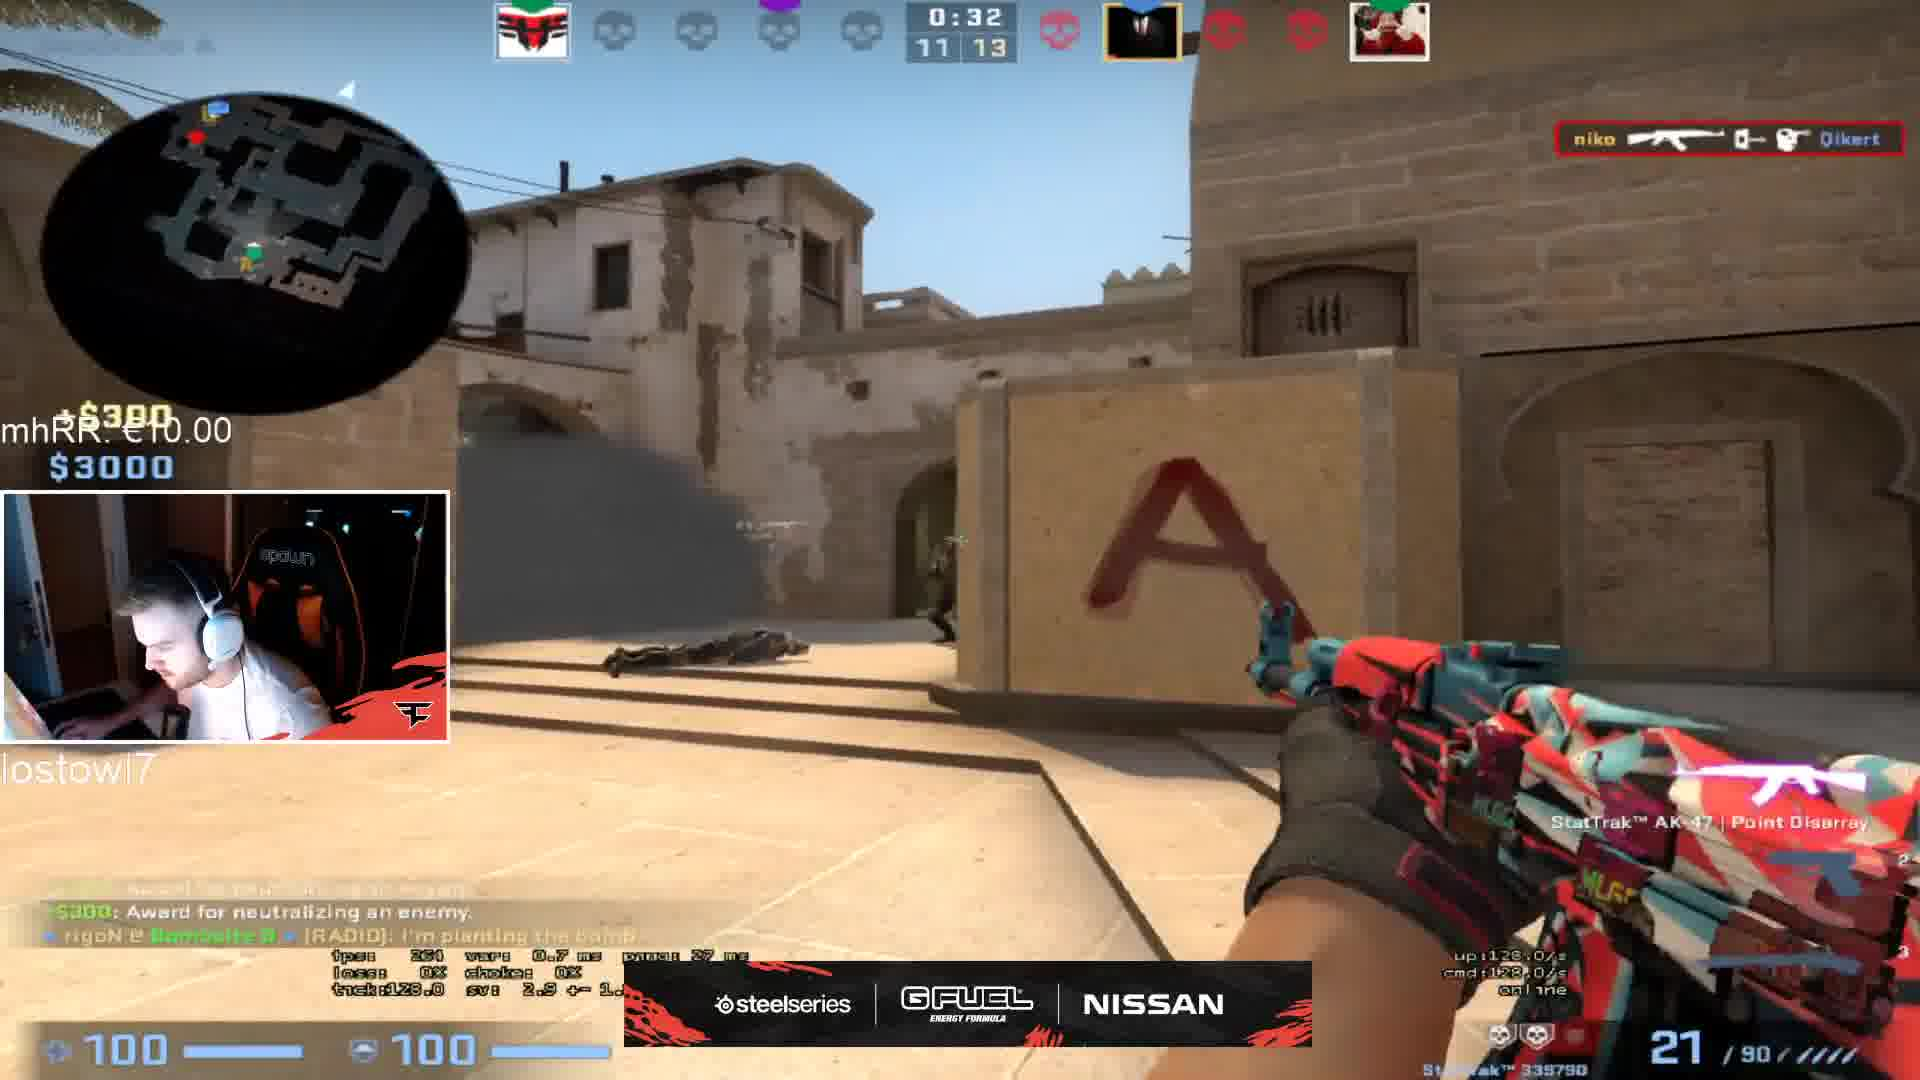enemy: (923, 534, 967, 645)
